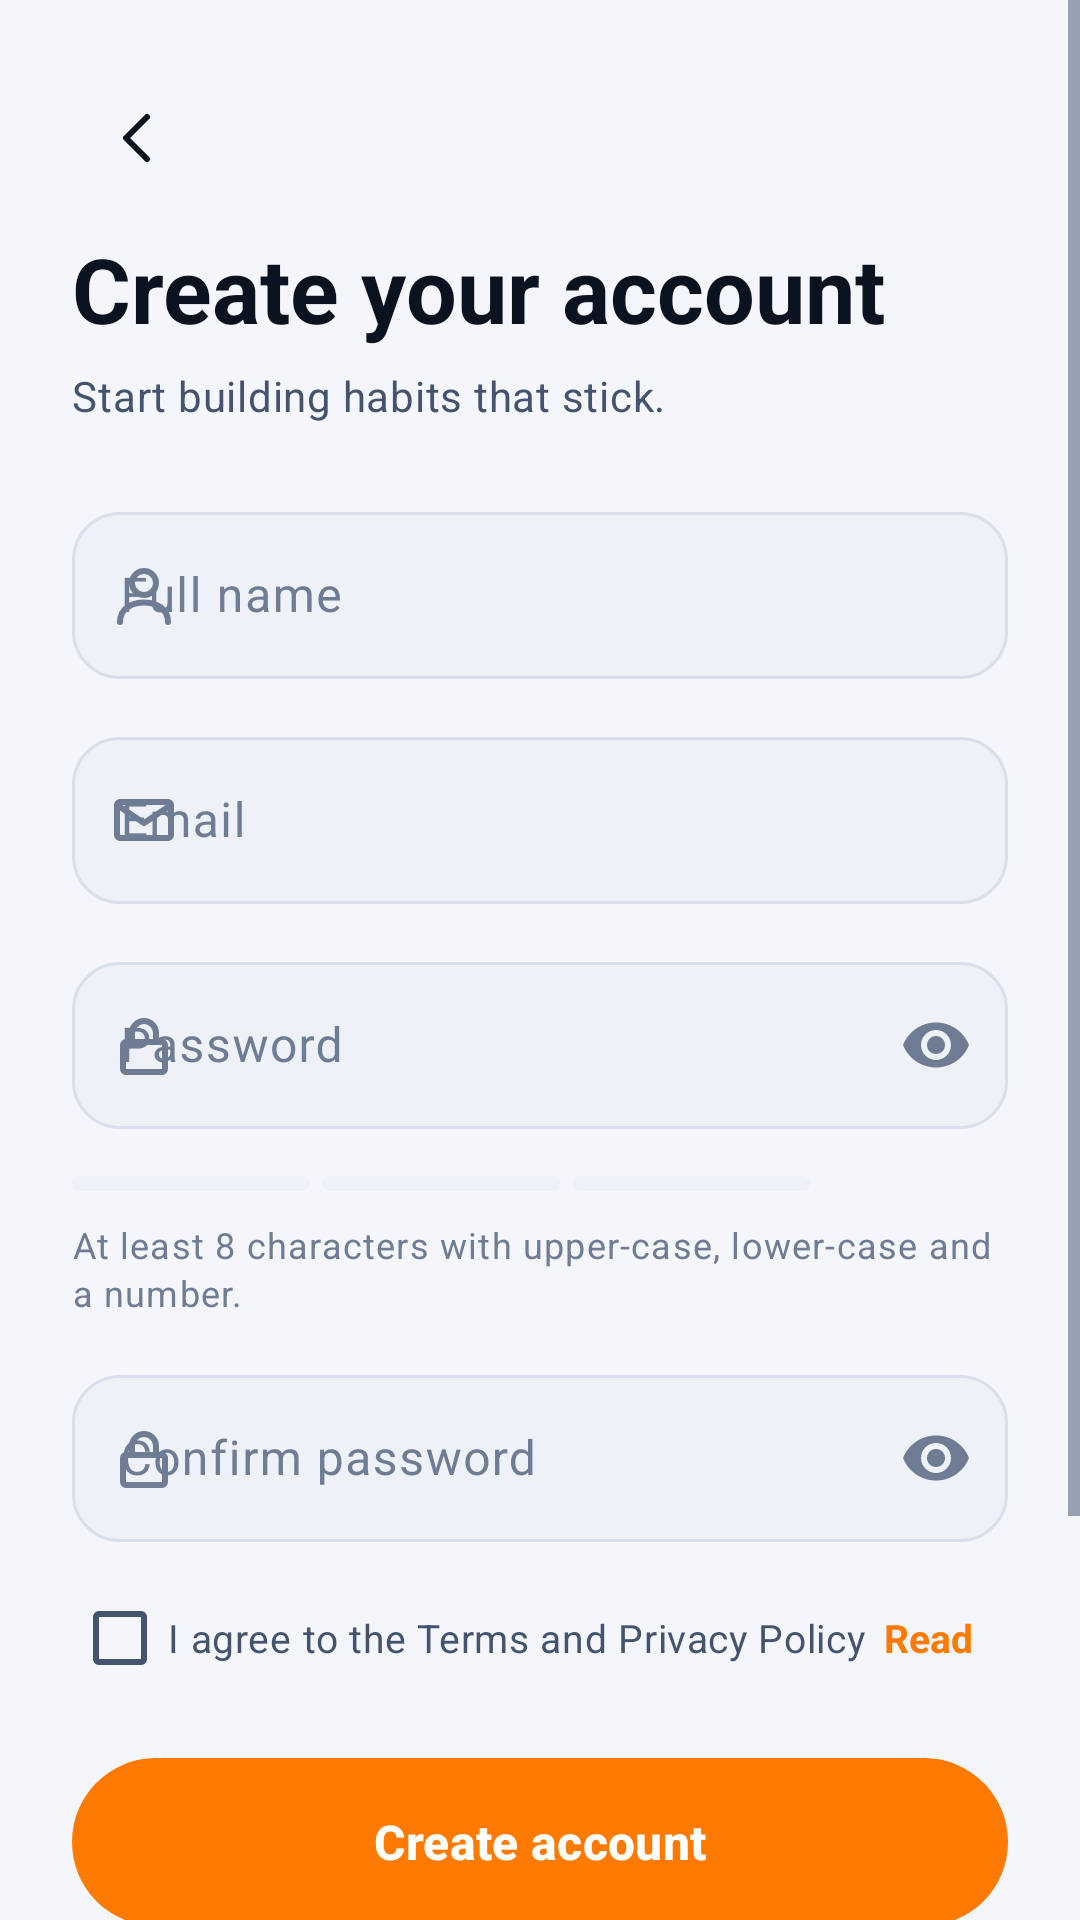

Locate icon controls on the screen. Image size 1080×1920, boxes as (x1, y1, x2, y2).
Back: (123, 114, 150, 162)
